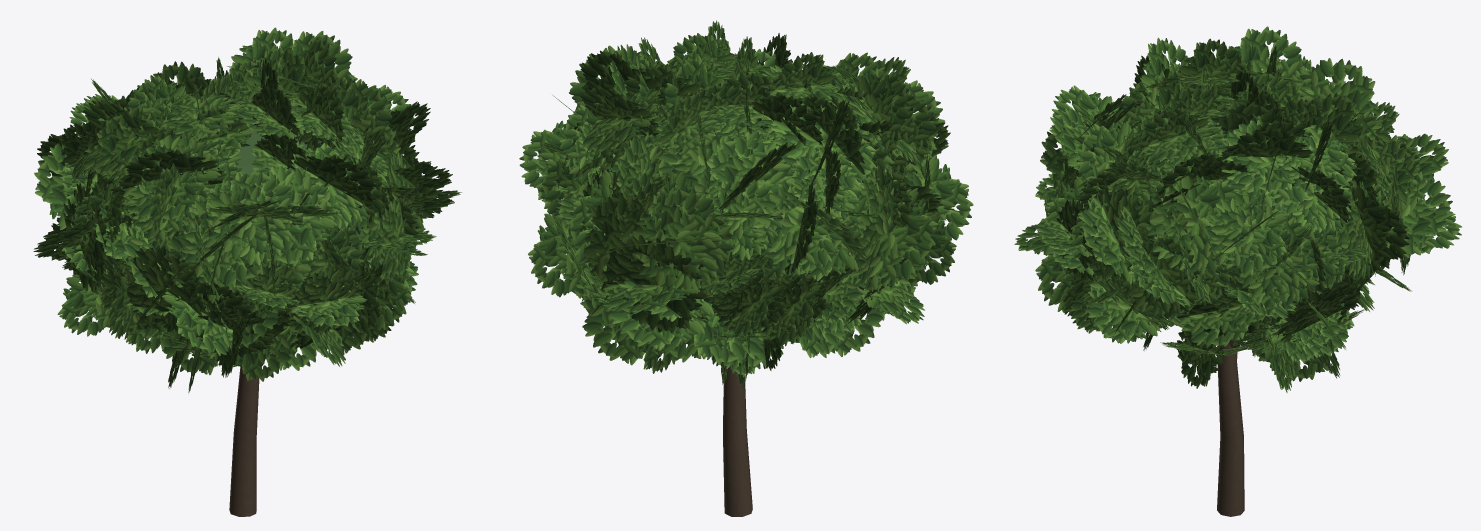
File: tree_broadleaf.glb
3 renders of one model, left to right at view 1: azimuth 30°, elevation 25°; view 2: azimuth 150°, elevation 25°; view 3: azimuth 270°, elevation 25°, orthographic. The views are drawn at different scales.
Parts seen in each view (by area): view 1: broadleaf_leaves_lod0, broadleaf_trunk_lod0, broadleaf_core_lod0; view 2: broadleaf_leaves_lod0, broadleaf_trunk_lod0; view 3: broadleaf_leaves_lod0, broadleaf_trunk_lod0.
Boxes of the visible parts, box(x1,y1,x2,y2) form: broadleaf_leaves_lod0: box(33, 27, 461, 392); broadleaf_trunk_lod0: box(229, 366, 259, 516); broadleaf_core_lod0: box(214, 118, 365, 276); broadleaf_leaves_lod0: box(519, 20, 973, 389); broadleaf_trunk_lod0: box(723, 366, 752, 516); broadleaf_leaves_lod0: box(1014, 26, 1461, 392); broadleaf_trunk_lod0: box(1217, 341, 1244, 516).
Size of what is drawn, in the model's own units: 6.52 by 7.2 by 6.55.
Materials: 3 (2 with a texture image).
